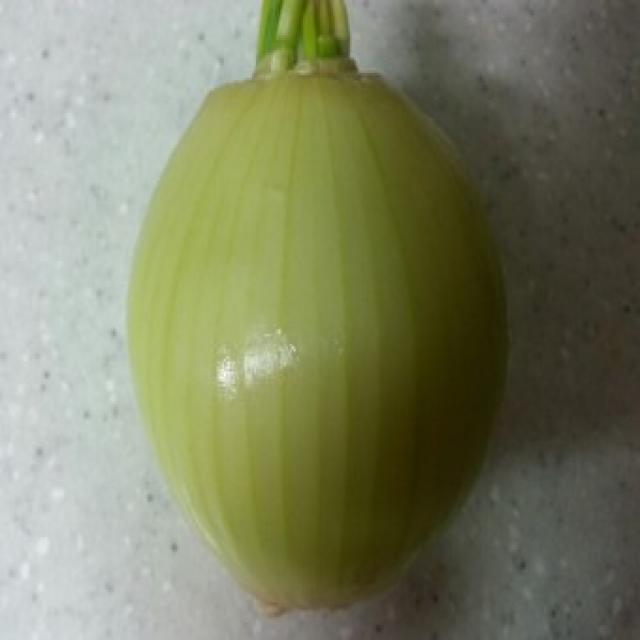onion: (104, 31, 528, 622)
